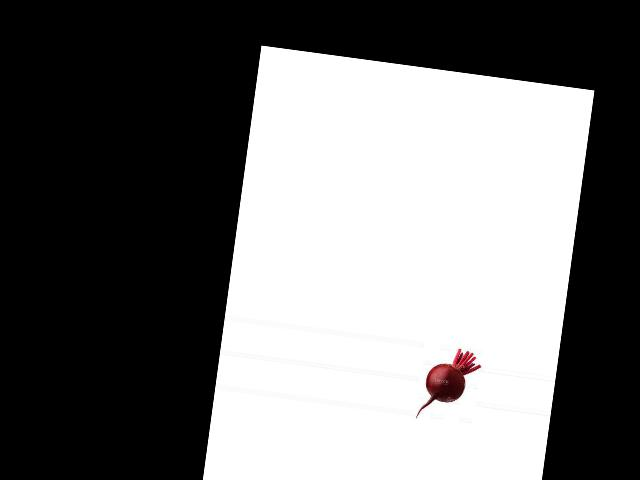beet: (416, 344, 483, 424)
